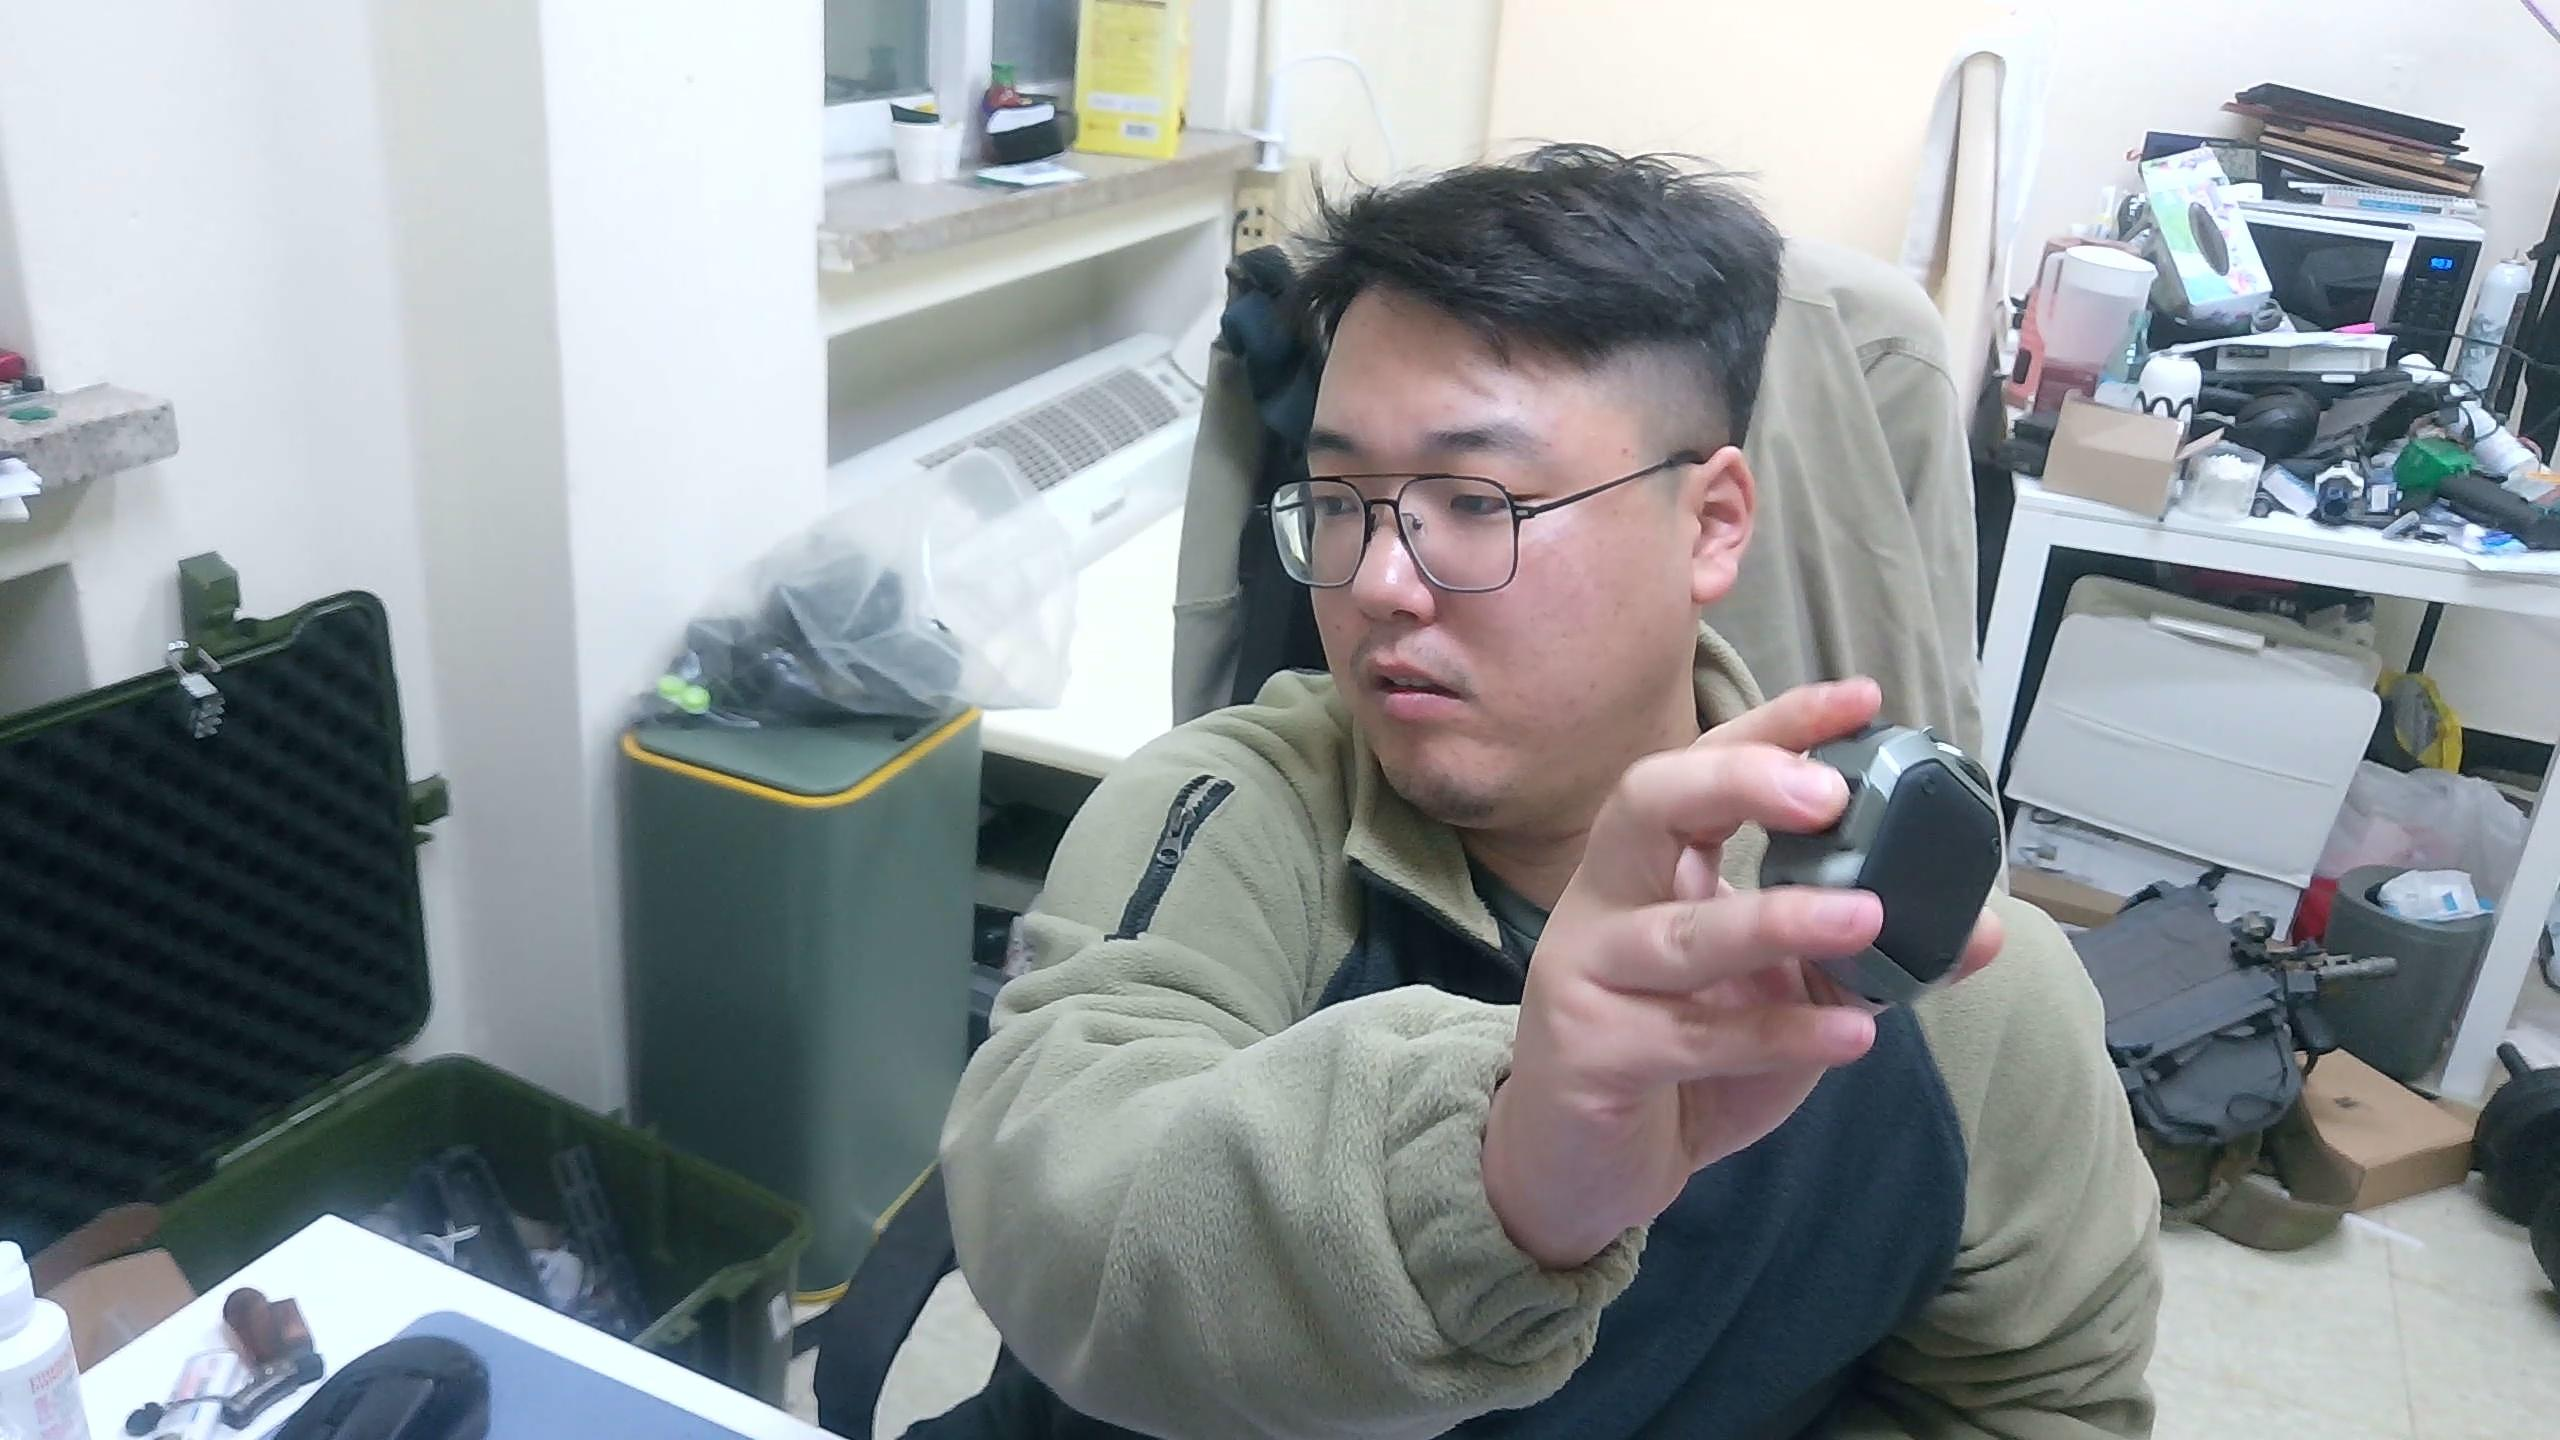blue_pliers: (1758, 717, 2008, 1011)
